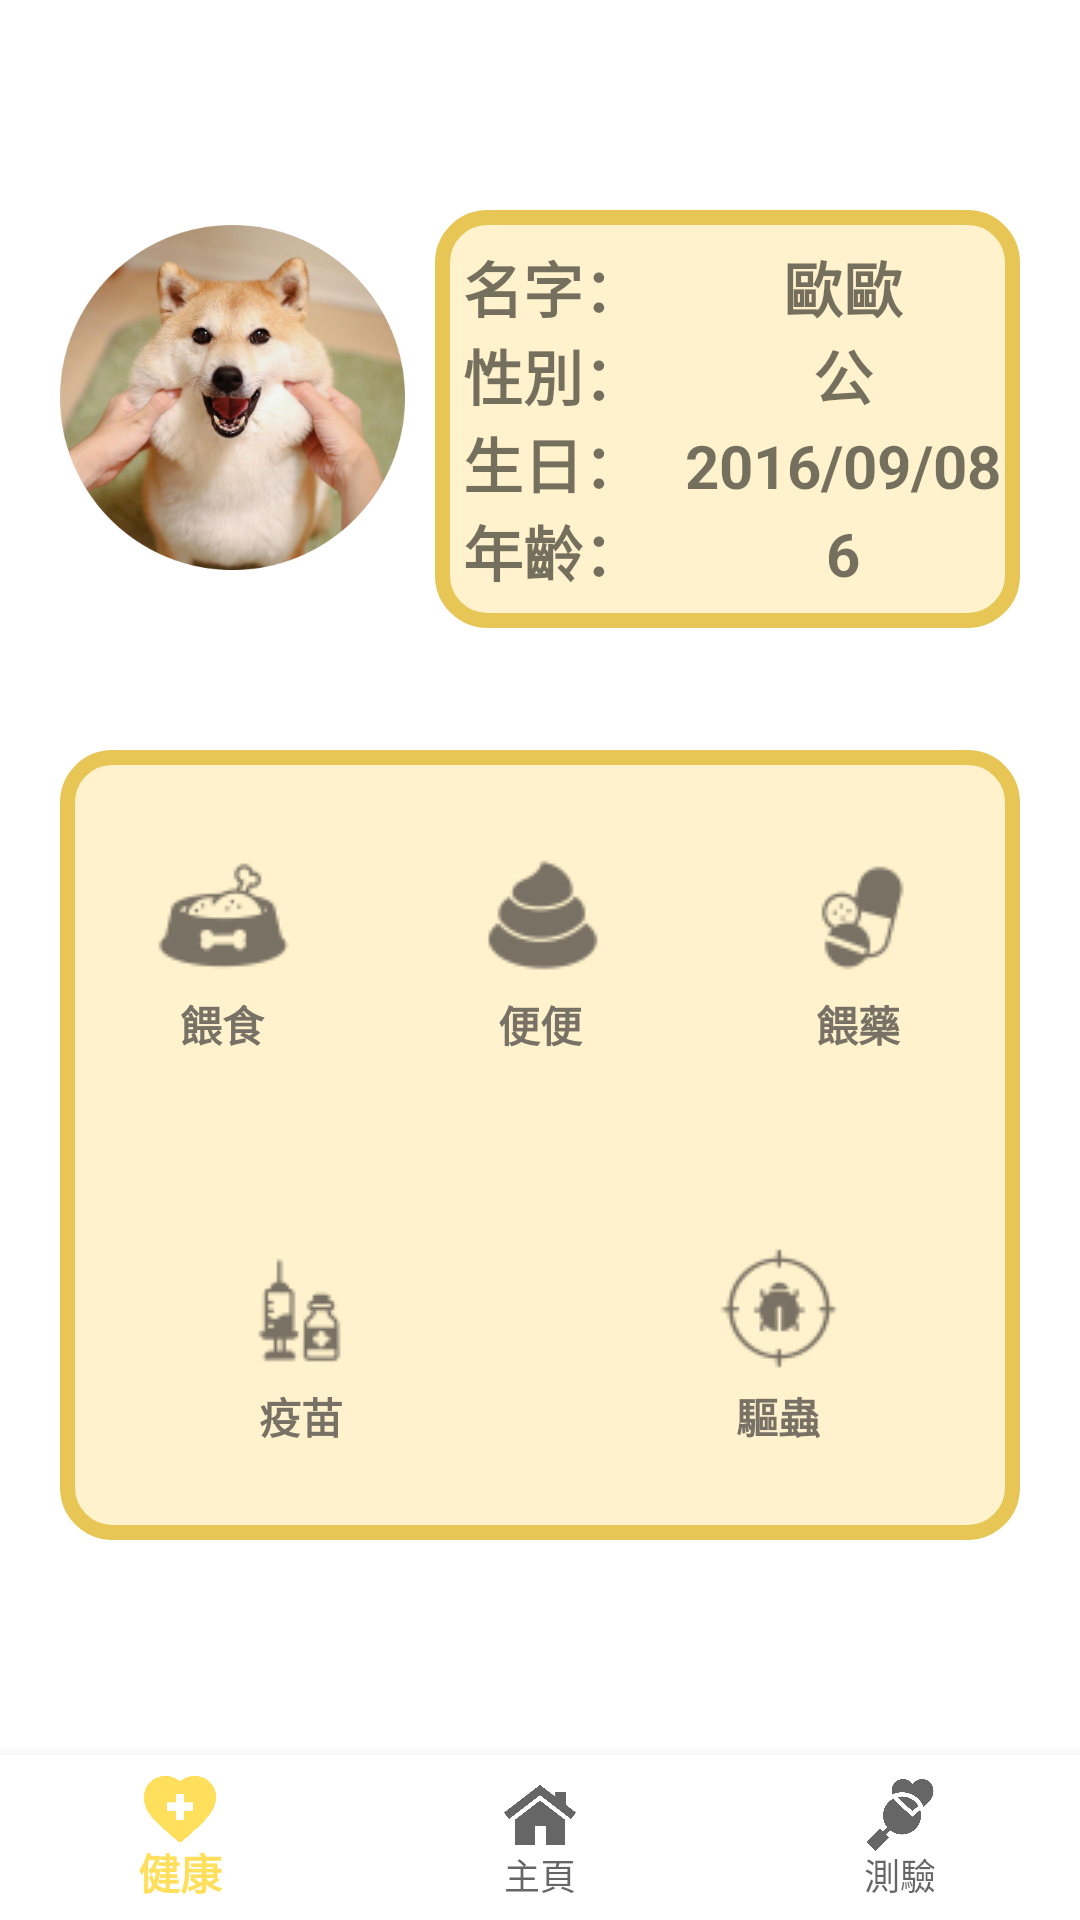

Icon bounding boxes for this 1080px x 1920px phone screenshot, format (x1, y1, x2, y2):
cuteshiba: (60, 225, 405, 570)
